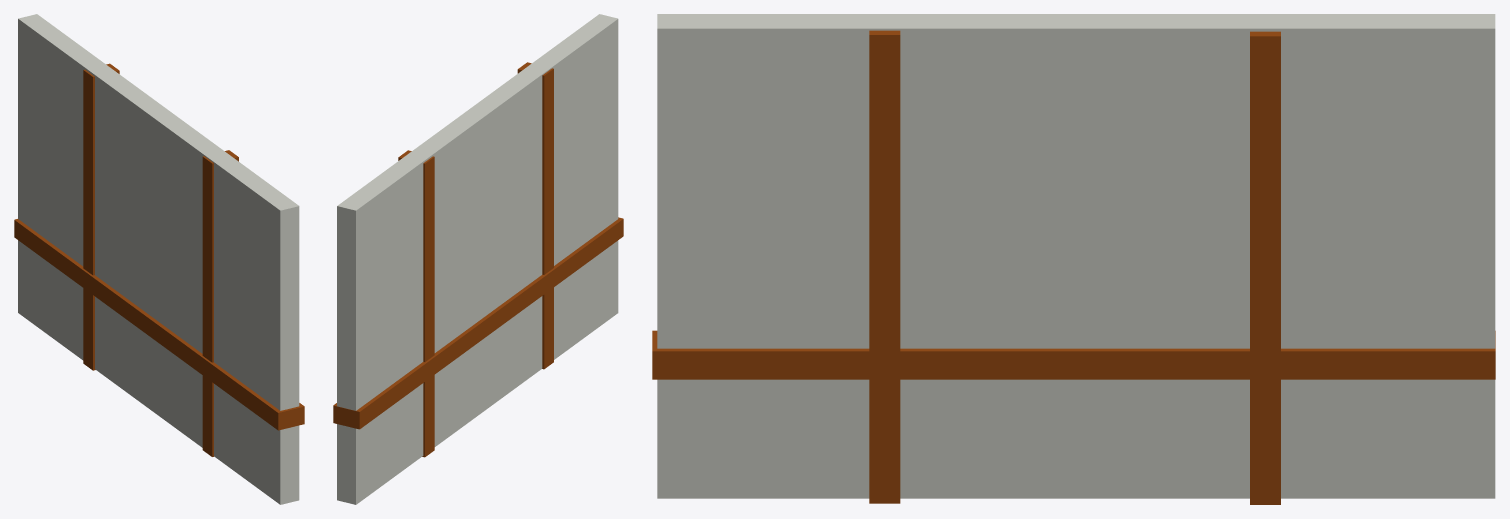
Rendered from NormalWall2.fbx.
3 views of the same model, side by side, from view 1: azimuth 30°, elevation 25°; view 2: azimuth 150°, elevation 25°; view 3: azimuth 270°, elevation 25° (orthographic). The views are drawn at different scales.
Visible parts, largest first — view 1: NormalWall2; view 2: NormalWall2; view 3: NormalWall2.
Boxes of the visible parts, bbox=[...] form: NormalWall2: bbox=[14, 14, 304, 504]; NormalWall2: bbox=[333, 14, 623, 504]; NormalWall2: bbox=[652, 14, 1495, 504].
Bounding box in the file's own units: 113 × 1115 × 1806.
